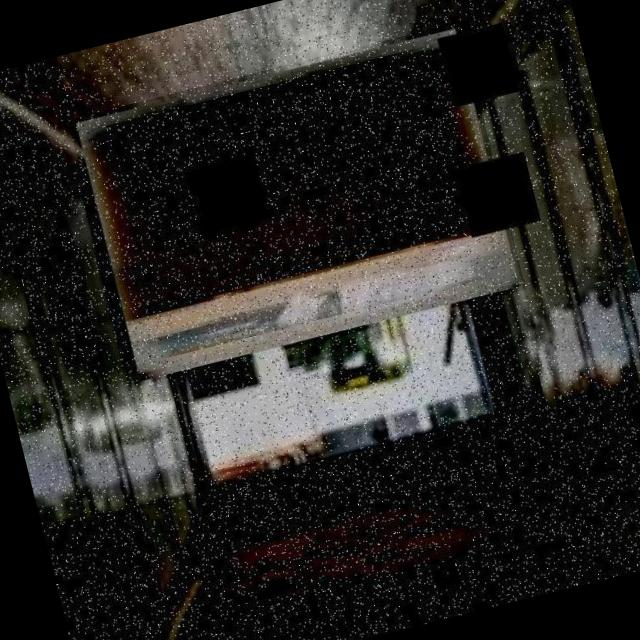box: (67, 21, 526, 387)
